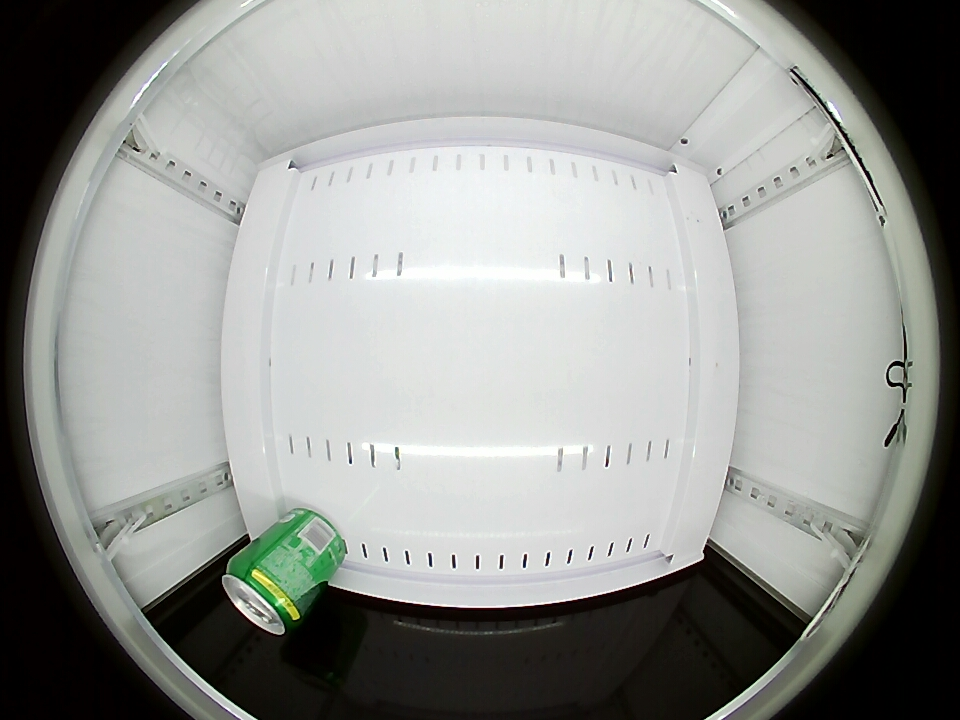xuebi2: (223, 556, 307, 635)
